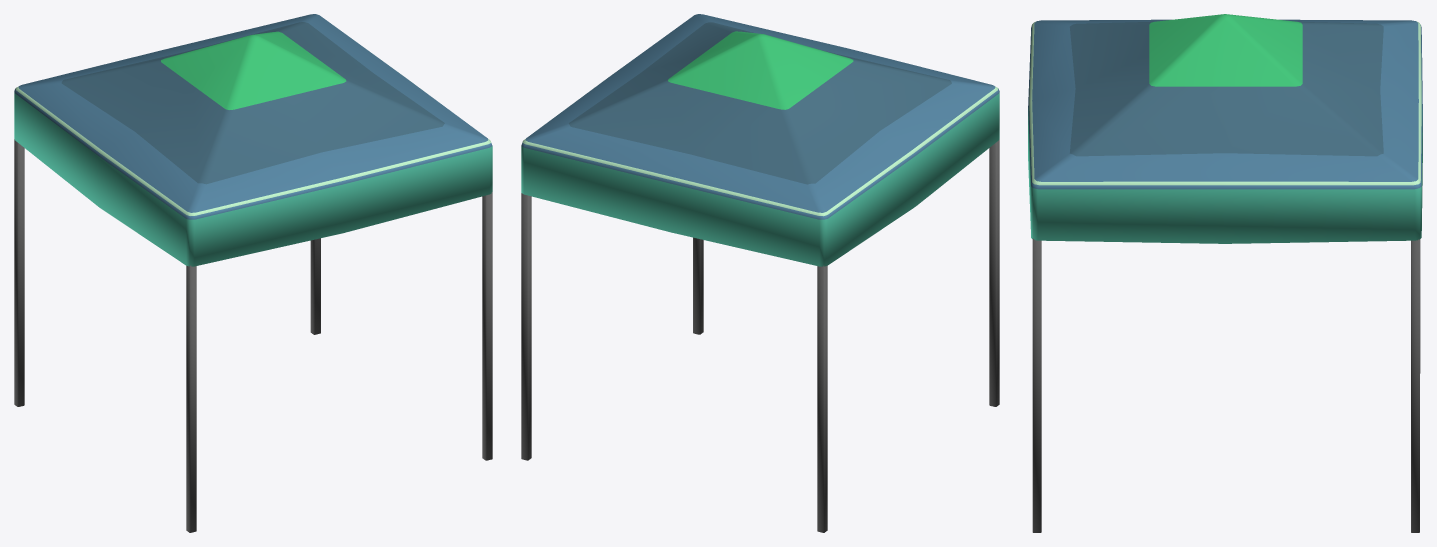
The model's file is Canopy_01(1).glb.
The picture shows the model from 3 angles, left to right: view 1: azimuth 30°, elevation 25°; view 2: azimuth 150°, elevation 25°; view 3: azimuth 270°, elevation 25°; orthographic projection. The views are drawn at different scales.
Visible parts, largest first — view 1: Canopy_01; view 2: Canopy_01; view 3: Canopy_01.
Part boxes in pixels (left/top/right/bottom): Canopy_01: left=14, top=14, right=492, bottom=532; Canopy_01: left=521, top=14, right=999, bottom=532; Canopy_01: left=1028, top=14, right=1422, bottom=532.
Size of what is drawn, in the model's own units: 4.22 by 5.18 by 4.25.
Materials: 1 (1 with a texture image).
